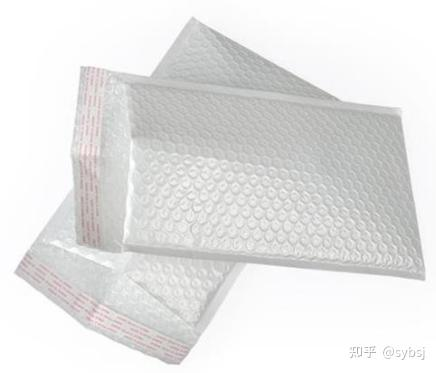塑料袋: (72, 68, 424, 278)
